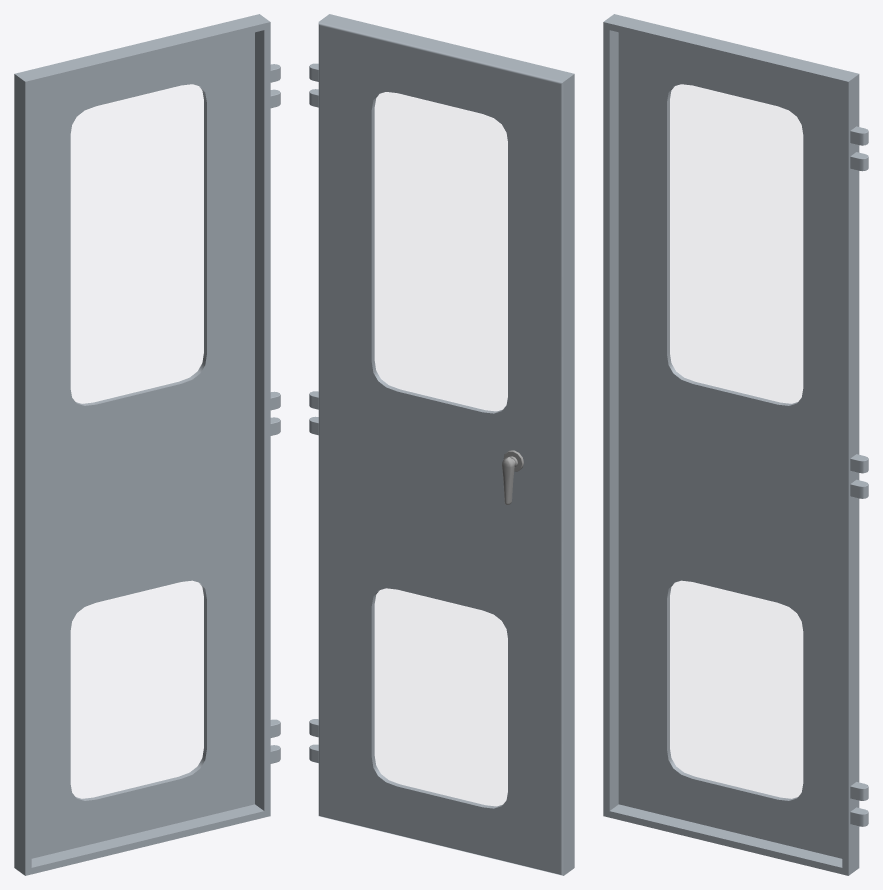
Rendered from LBS_BACK_DOOR.fbx.
The picture shows the model from 3 angles, left to right: view 1: azimuth 30°, elevation 25°; view 2: azimuth 150°, elevation 25°; view 3: azimuth 330°, elevation 25°; orthographic projection.
Visible parts, largest first — view 1: LBS_BACK_DOOR; view 2: LBS_BACK_DOOR; view 3: LBS_BACK_DOOR.
Part boxes in pixels (left/top/right/bottom): LBS_BACK_DOOR: left=14, top=14, right=280, bottom=875; LBS_BACK_DOOR: left=309, top=14, right=574, bottom=875; LBS_BACK_DOOR: left=603, top=14, right=868, bottom=875.
Bounding box in the file's own units: 0.6334 × 1.85 × 0.0875.
Materials: 2 (1 with a texture image).
